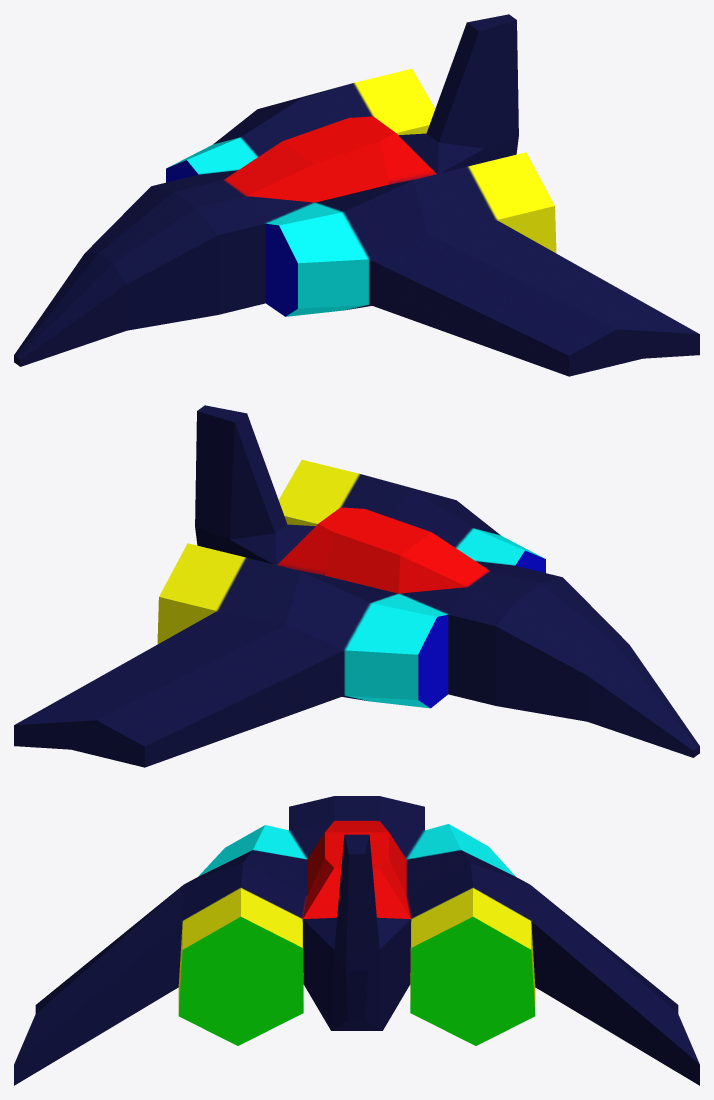
Rendered from shipbasic.glb.
3 renders of one model, top to bottom at view 1: azimuth 30°, elevation 25°; view 2: azimuth 150°, elevation 25°; view 3: azimuth 270°, elevation 25°, orthographic.
Visible parts, largest first — view 1: TurtleDefaultBakeLayer pCylinder8.002; view 2: TurtleDefaultBakeLayer pCylinder8.002; view 3: TurtleDefaultBakeLayer pCylinder8.002.
Part boxes in pixels (x1,y1,x2,y2): TurtleDefaultBakeLayer pCylinder8.002: [14, 14, 699, 376]; TurtleDefaultBakeLayer pCylinder8.002: [14, 405, 699, 767]; TurtleDefaultBakeLayer pCylinder8.002: [14, 796, 699, 1085].
Size of the model in its own units: 4.43 by 1.87 by 5.04.
Materials: 1 (1 with a texture image).
